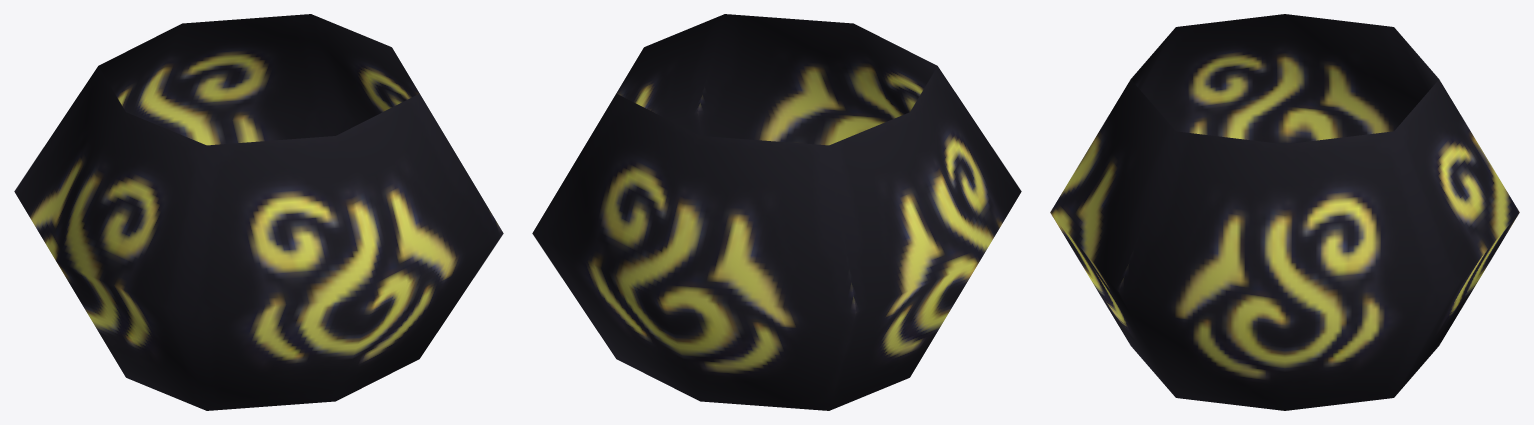
Rendered from FB_boss_dibiao_faguang.FBX.
3 views of the same model, side by side, from view 1: azimuth 30°, elevation 25°; view 2: azimuth 150°, elevation 25°; view 3: azimuth 270°, elevation 25° (orthographic).
Parts seen in each view (by area): view 1: Object10; view 2: Object10; view 3: Object10.
Boxes of the visible parts, x1=… form: Object10: x1=14, y1=14, x2=503, y2=410; Object10: x1=532, y1=14, x2=1021, y2=410; Object10: x1=1050, y1=14, x2=1519, y2=410.
Size of the model in its own units: 2.25 by 1.41 by 2.25.
